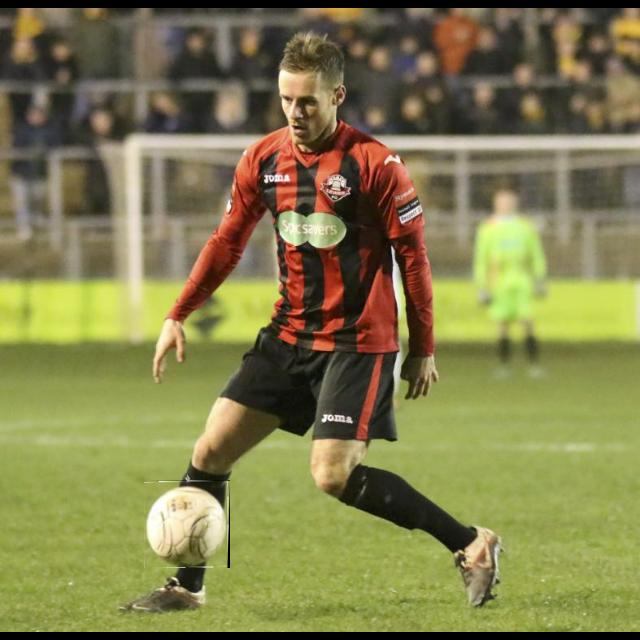Football: (144, 480, 230, 568)
